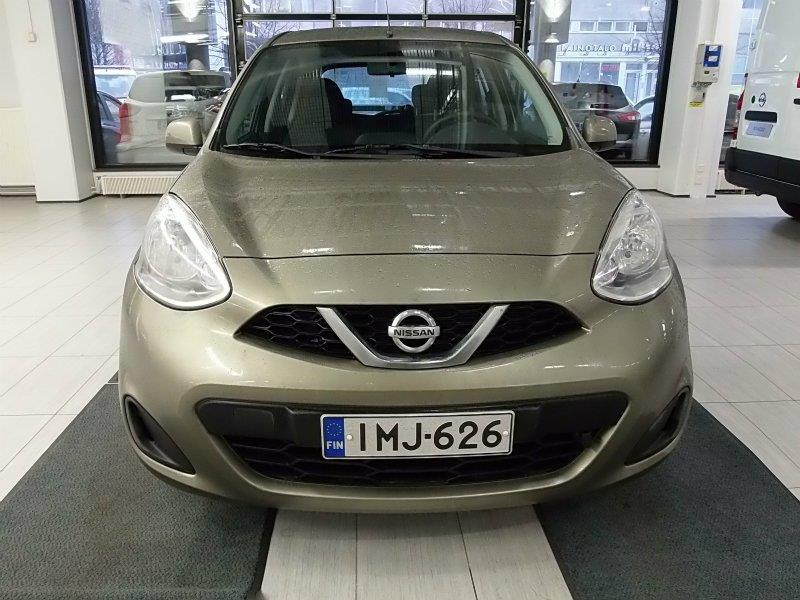license: (319, 409, 512, 465)
